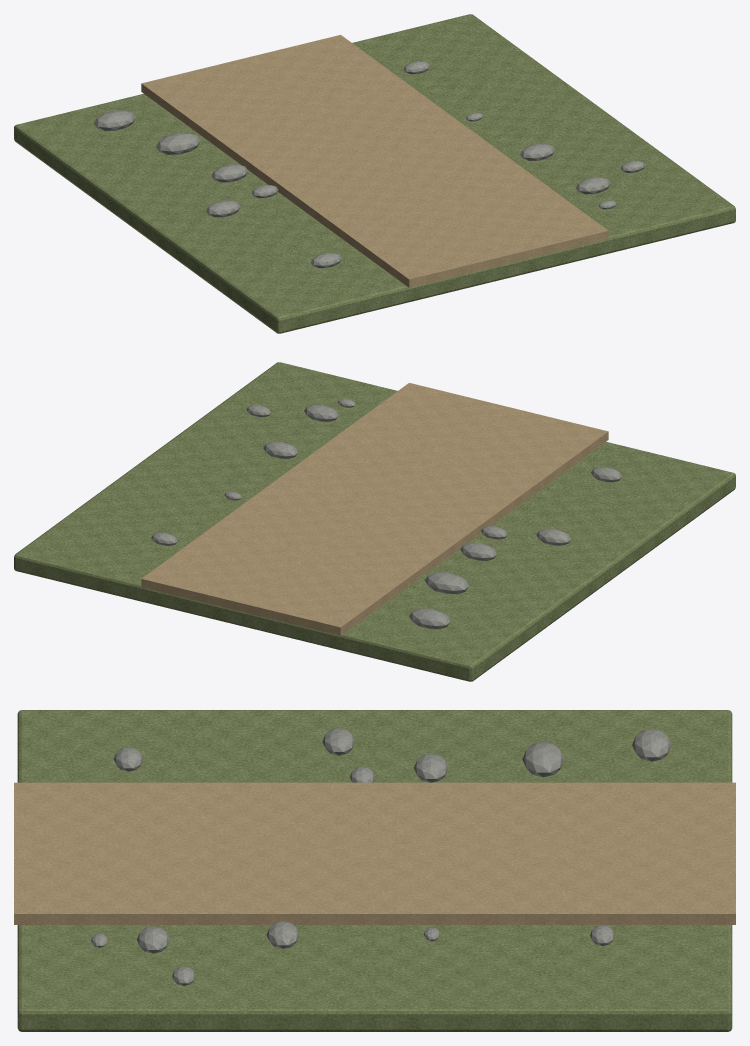
The model's file is ROAD_DIRT_1x1_STRAIGHT.glb.
3 views of the same model, one above another, from view 1: azimuth 30°, elevation 25°; view 2: azimuth 150°, elevation 25°; view 3: azimuth 270°, elevation 25° (orthographic). The views are drawn at different scales.
Parts seen in each view (by area): view 1: ROAD_DIRT_1x1_STRAIGHT_Visual; view 2: ROAD_DIRT_1x1_STRAIGHT_Visual; view 3: ROAD_DIRT_1x1_STRAIGHT_Visual.
Boxes of the visible parts, x1,y1,x2,y2 form: ROAD_DIRT_1x1_STRAIGHT_Visual: [14, 14, 735, 333]; ROAD_DIRT_1x1_STRAIGHT_Visual: [14, 362, 735, 681]; ROAD_DIRT_1x1_STRAIGHT_Visual: [14, 710, 735, 1031].
Size of what is drawn, in the model's own units: 1.98 by 0.141 by 2.
Materials: 3 (3 with a texture image).
